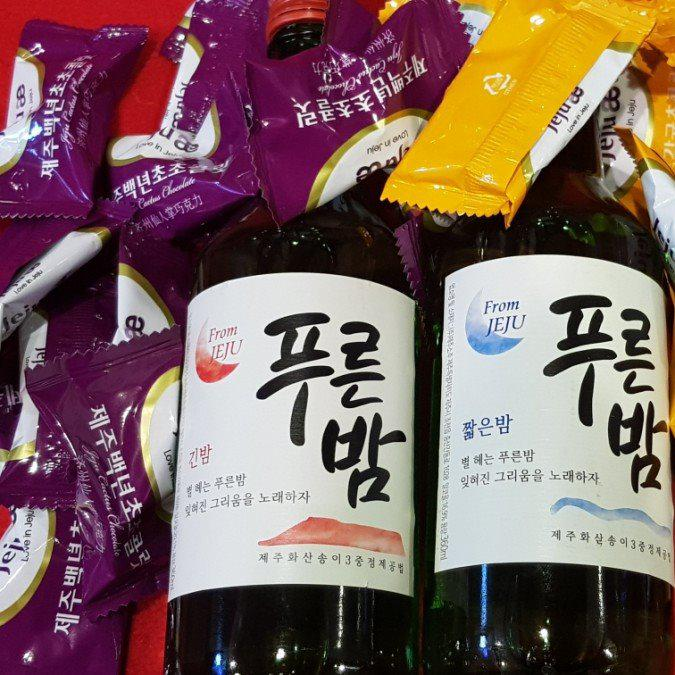soju: (165, 2, 675, 665)
